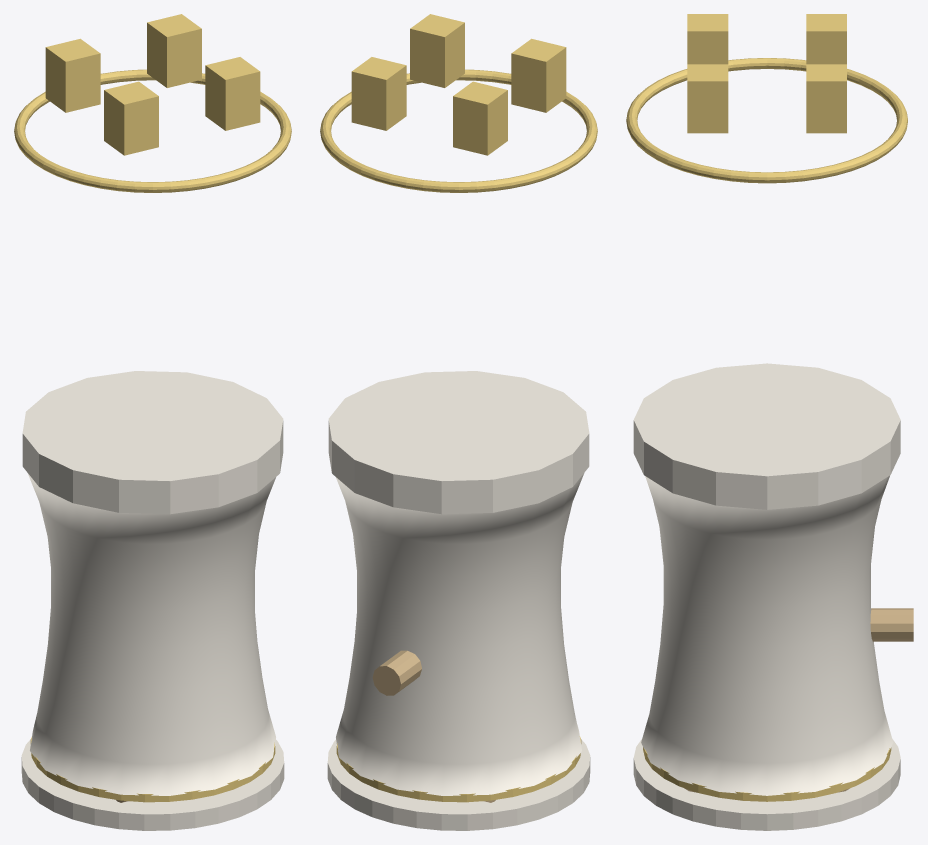
3 renders of one model, left to right at view 1: azimuth 30°, elevation 25°; view 2: azimuth 150°, elevation 25°; view 3: azimuth 270°, elevation 25°, orthographic.
Visible parts, largest first — view 1: Durg_Bastion, Durg_Parapet, Plinth_Stone, Durg_CorniceRim, Durg_Crenel_1, Durg_Crenel_2, Durg_Crenel_0, Durg_Crenel_3, Plinth_GoldRim; view 2: Durg_Bastion, Durg_Parapet, Plinth_Stone, Durg_CorniceRim, Durg_Crenel_0, Durg_Crenel_3, Durg_Crenel_2, Durg_Crenel_1, Plinth_GoldRim, Durg_Ram; view 3: Durg_Bastion, Durg_Parapet, Plinth_Stone, Durg_CorniceRim, Durg_Crenel_1, Durg_Crenel_3, Durg_Crenel_0, Durg_Crenel_2, Plinth_GoldRim, Durg_Ram.
Part boxes in pixels (left/top/right/bottom): Durg_Bastion: left=27, top=473, right=275, bottom=795; Durg_Parapet: left=22, top=371, right=283, bottom=514; Plinth_Stone: left=21, top=739, right=284, bottom=830; Durg_CorniceRim: left=14, top=69, right=291, bottom=192; Durg_Crenel_1: left=205, top=57, right=260, bottom=130; Durg_Crenel_2: left=45, top=38, right=100, bottom=112; Durg_Crenel_0: left=104, top=81, right=158, bottom=155; Durg_Crenel_3: left=147, top=14, right=201, bottom=87; Plinth_GoldRim: left=30, top=737, right=275, bottom=802; Durg_Bastion: left=336, top=473, right=584, bottom=795; Durg_Parapet: left=328, top=371, right=589, bottom=514; Plinth_Stone: left=327, top=739, right=590, bottom=830; Durg_CorniceRim: left=320, top=69, right=597, bottom=192; Durg_Crenel_0: left=511, top=38, right=566, bottom=112; Durg_Crenel_3: left=351, top=57, right=406, bottom=130; Durg_Crenel_2: left=453, top=81, right=507, bottom=155; Durg_Crenel_1: left=410, top=14, right=464, bottom=87; Plinth_GoldRim: left=336, top=736, right=581, bottom=802; Durg_Ram: left=372, top=650, right=421, bottom=695; Durg_Bastion: left=641, top=475, right=893, bottom=795; Durg_Parapet: left=633, top=363, right=900, bottom=509; Plinth_Stone: left=633, top=738, right=900, bottom=830; Durg_CorniceRim: left=626, top=58, right=907, bottom=183; Durg_Crenel_1: left=687, top=64, right=728, bottom=133; Durg_Crenel_3: left=806, top=64, right=846, bottom=133; Durg_Crenel_0: left=687, top=14, right=728, bottom=64; Durg_Crenel_2: left=806, top=14, right=846, bottom=64; Plinth_GoldRim: left=643, top=747, right=891, bottom=801; Durg_Ram: left=870, top=608, right=913, bottom=641.
Bounding box in the file's own units: 0.76 × 2.16 × 0.775.
